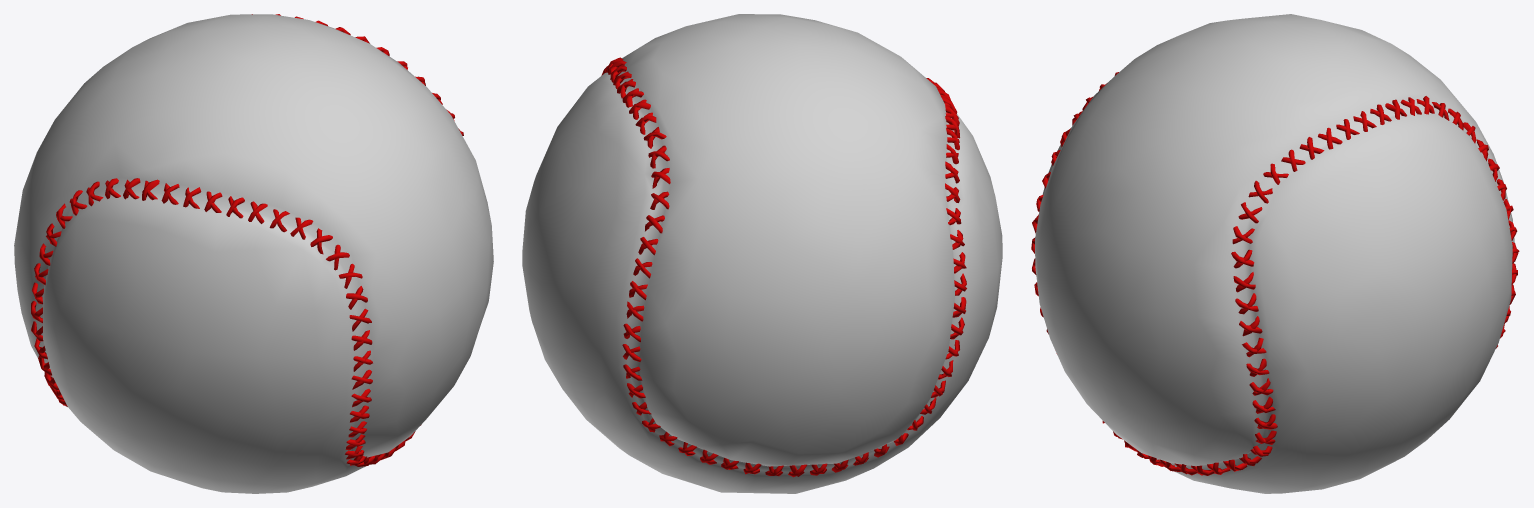
File: BolaBaseball.obj
3 renders of one model, left to right at view 1: azimuth 30°, elevation 25°; view 2: azimuth 150°, elevation 25°; view 3: azimuth 270°, elevation 25°, orthographic.
Parts seen in each view (by area): view 1: baseball_ball_1_Cube, baseball_ball_2_BezierCurve; view 2: baseball_ball_1_Cube, baseball_ball_2_BezierCurve; view 3: baseball_ball_1_Cube, baseball_ball_2_BezierCurve.
Part boxes in pixels (box(x1,y1,x2,y2)): baseball_ball_1_Cube: box(14, 14, 493, 493); baseball_ball_2_BezierCurve: box(31, 14, 463, 466); baseball_ball_1_Cube: box(522, 14, 1002, 493); baseball_ball_2_BezierCurve: box(601, 57, 966, 477); baseball_ball_1_Cube: box(1035, 14, 1514, 493); baseball_ball_2_BezierCurve: box(1031, 72, 1519, 475).
Bounding box in the file's own units: 0.7468 × 0.7322 × 0.7497.
